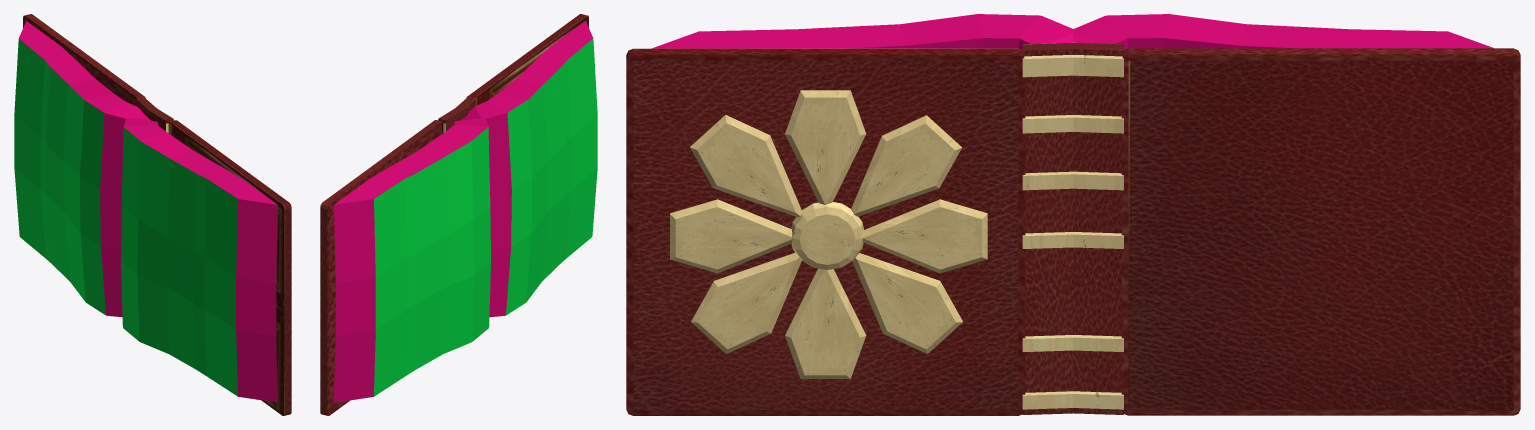
File: book openinganim.fbx
3 views of the same model, side by side, from view 1: azimuth 30°, elevation 25°; view 2: azimuth 150°, elevation 25°; view 3: azimuth 270°, elevation 25° (orthographic). The views are drawn at different scales.
Parts seen in each view (by area): view 1: Cube; view 2: Cube; view 3: Cube.
Boxes of the visible parts, box(x1,y1,x2,y2) form: Cube: box(14, 14, 291, 415); Cube: box(320, 14, 597, 415); Cube: box(626, 14, 1520, 415).
Bounding box in the file's own units: 26.97 × 95.64 × 213.
